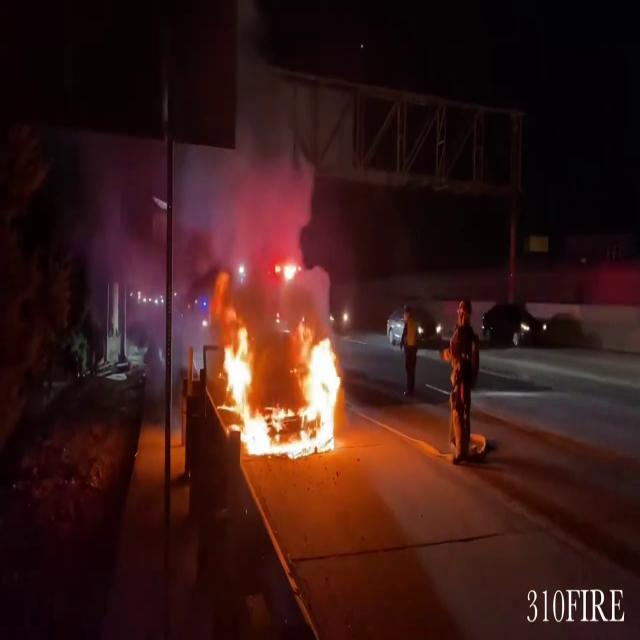Fire: (217, 278, 352, 460)
Smoke: (100, 24, 367, 324)
